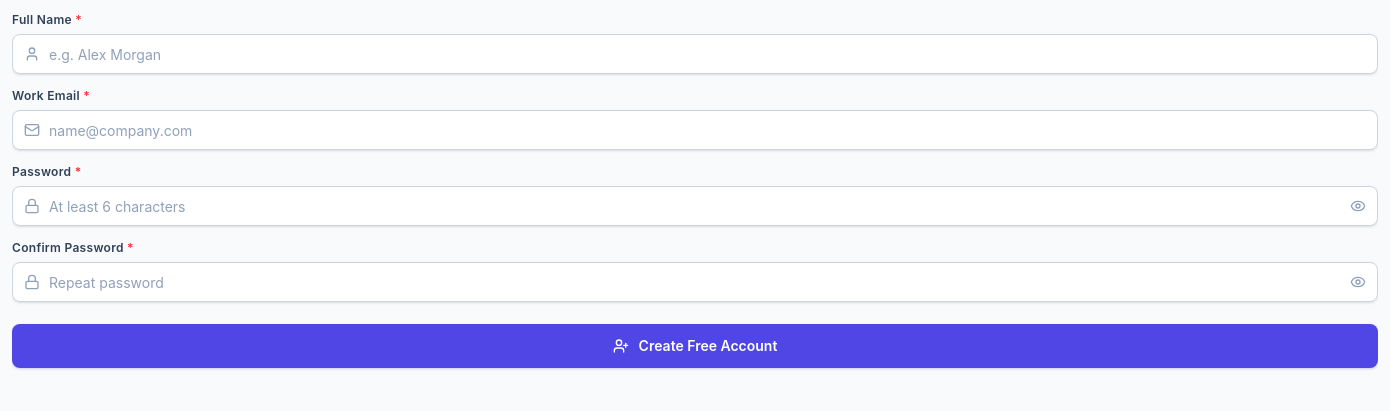
Test: Frontend Authentication Flow & States › validates password mismatch on registration form
This screenshot has width=1390, height=411.
Type "Alex Morgan" into the field labelled "Full Name *" at (695, 54), box [12,34,1378,74]
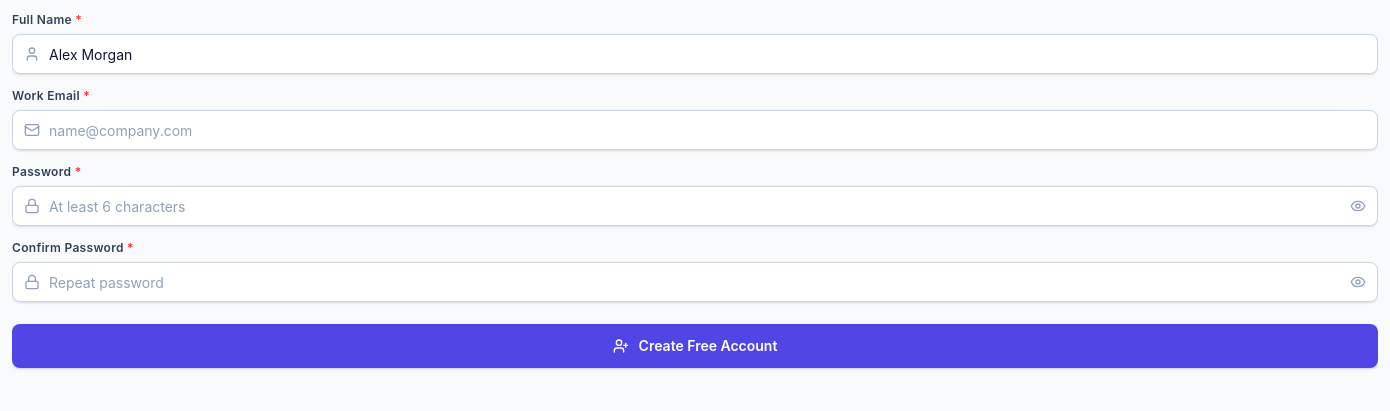
Type "alex@example.com" into the field labelled "Work Email *" at (695, 130), box [12,110,1378,150]
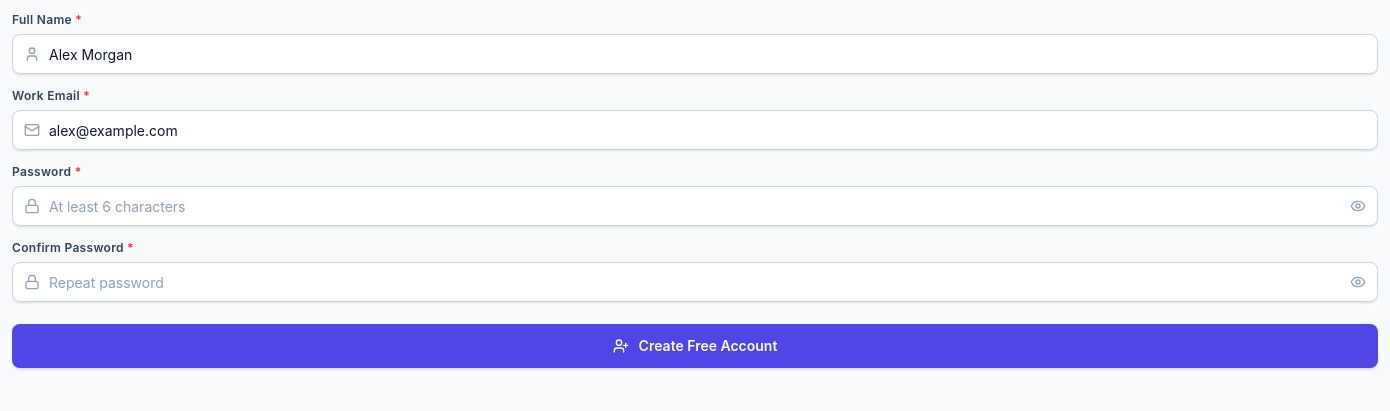
Type "secret123" into the password field labelled "Password *" at (695, 206), box [12,186,1378,226]
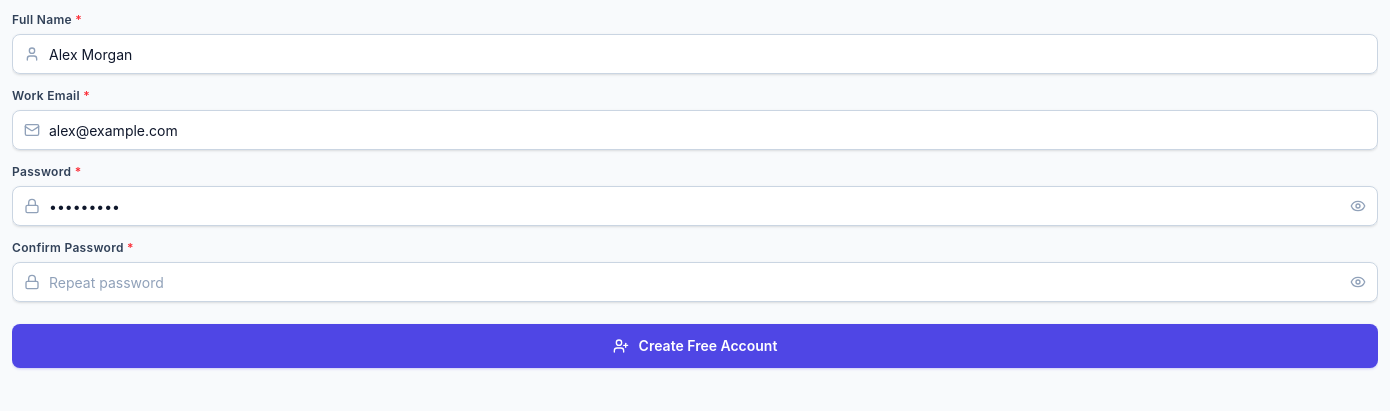
Type "mismatch456" into the password field labelled "Confirm Password *" at (695, 282), box [12,262,1378,302]
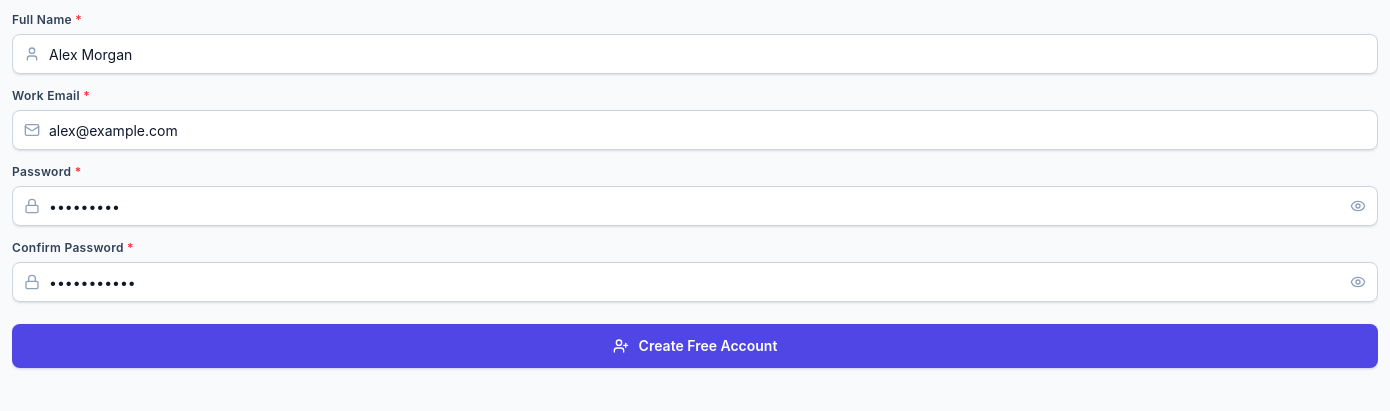
Click the button "Create Free Account" at (695, 346), box [12,324,1378,368]
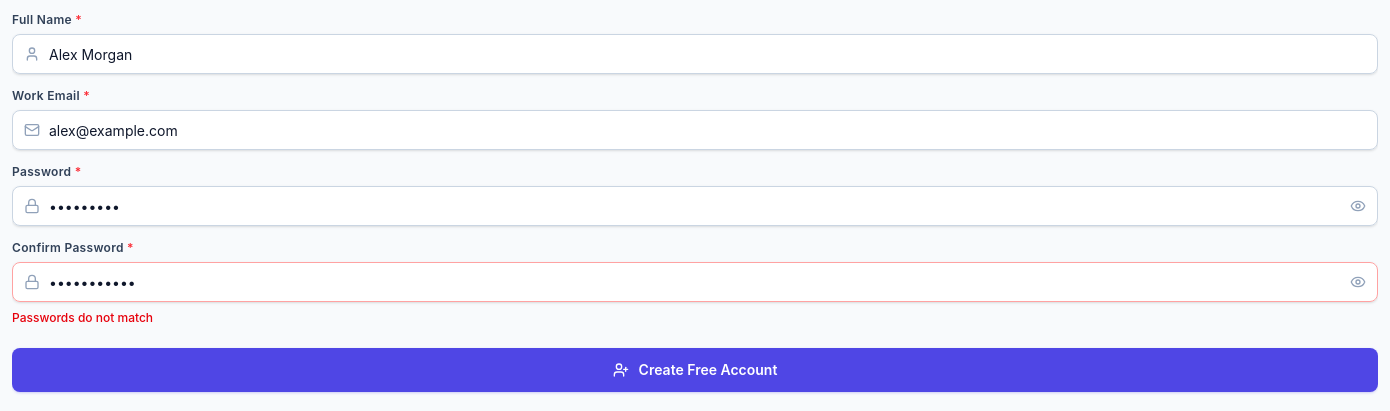
expect the text "Passwords do not match" is shown: met, box [12,310,153,325]
